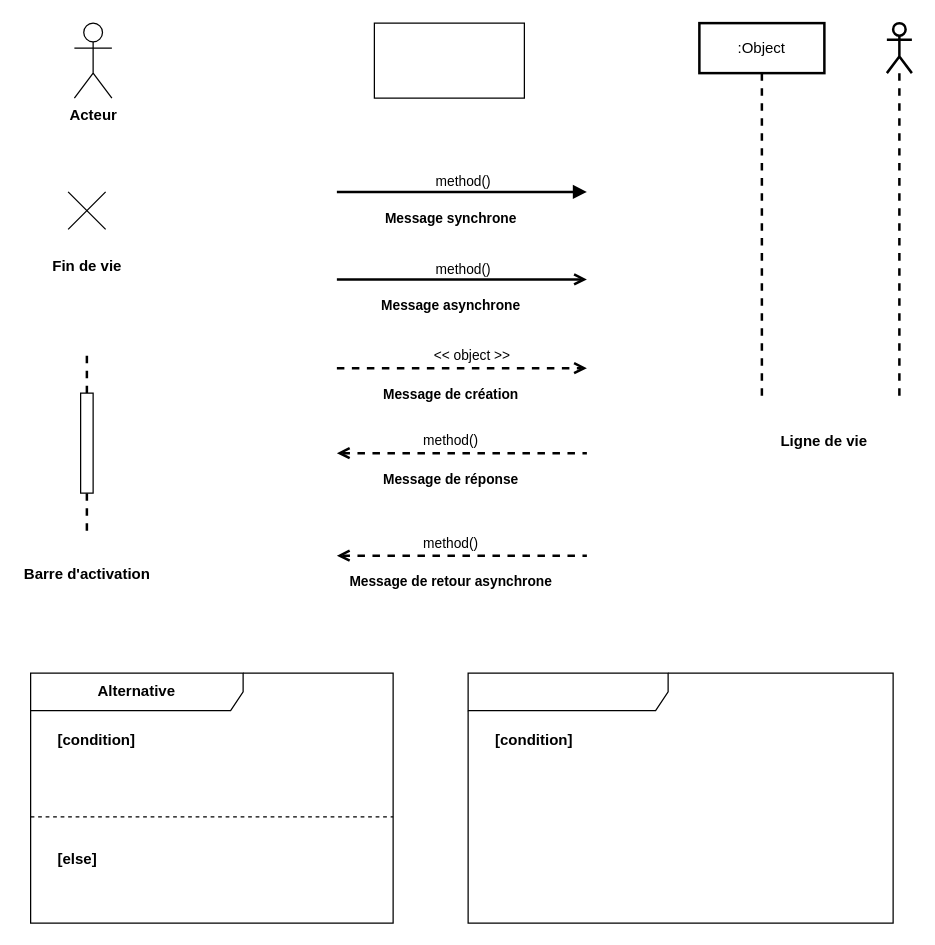
This 935x945 diagram has some shape labels left out. The shapes that lost their labels are listed below. From the top down, each one's box as (x1, y1, x2, y2) in pixels, then its label:
(373, 22, 524, 98): Objet
(467, 672, 893, 923): Loop
